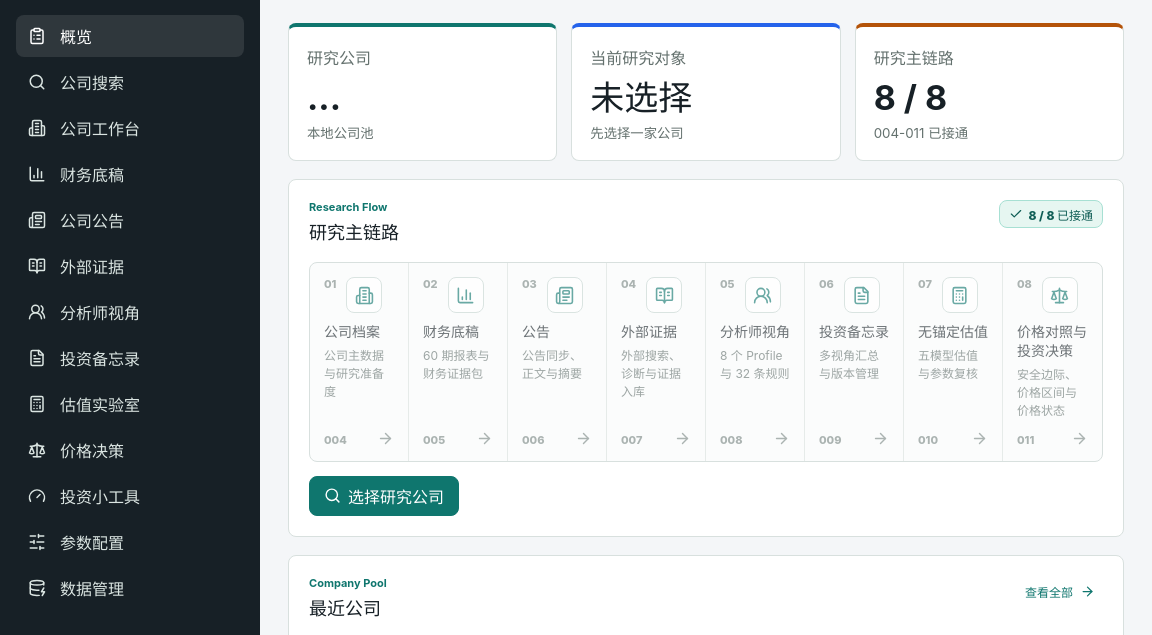
Test case: App › views and manually deletes price decision history
Step 1. Click the button "公司搜索" → point(130, 82), box [16,61,244,103]
(page scrolled)
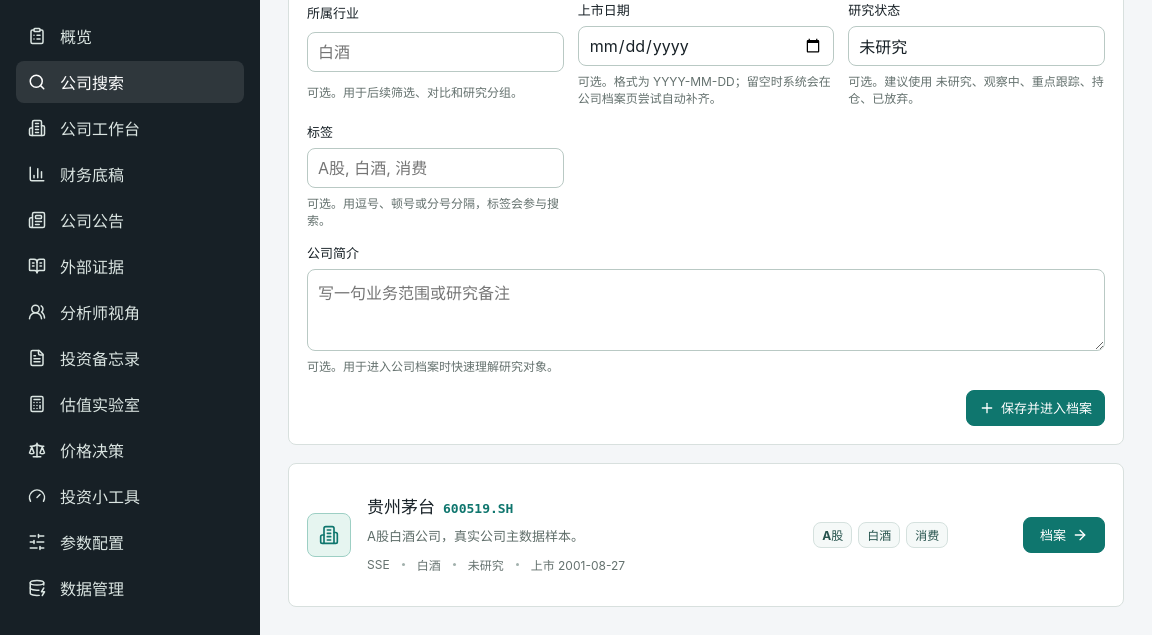
Result: the heading "贵州茅台" is shown at [367,496,435,519]
Step 2. Click the button "档案" → point(1064, 535), box [1023,517,1105,553]
(page scrolled)
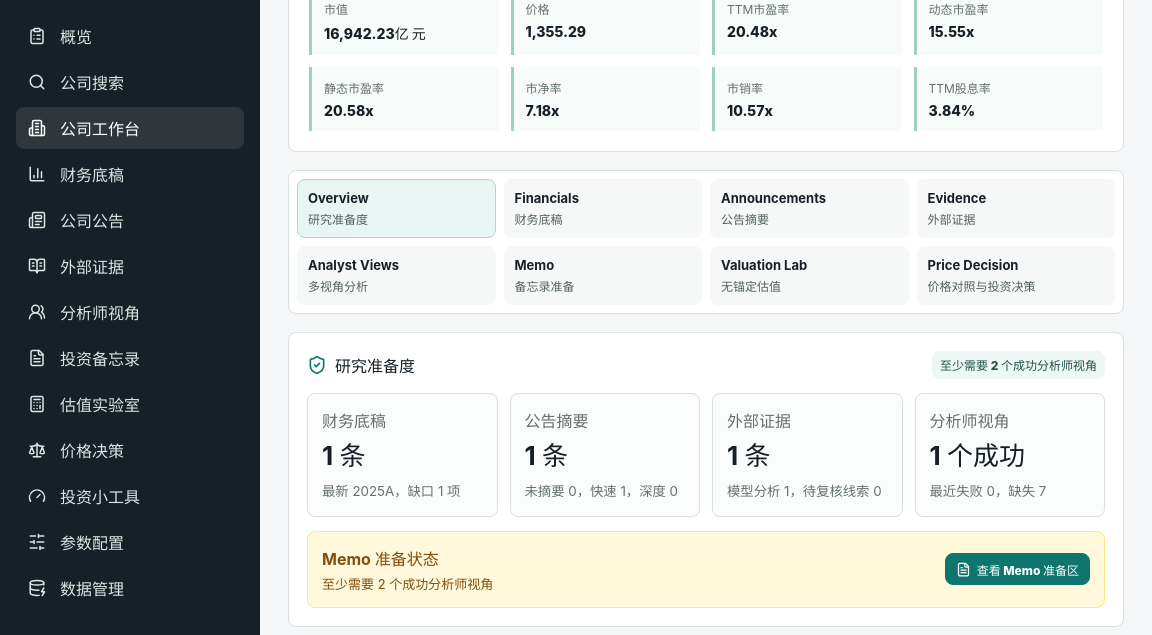
Step 3. Click the button "Price Decision 价格对照与投资决策" → point(1016, 275), box [916,246,1115,305]
(page scrolled)
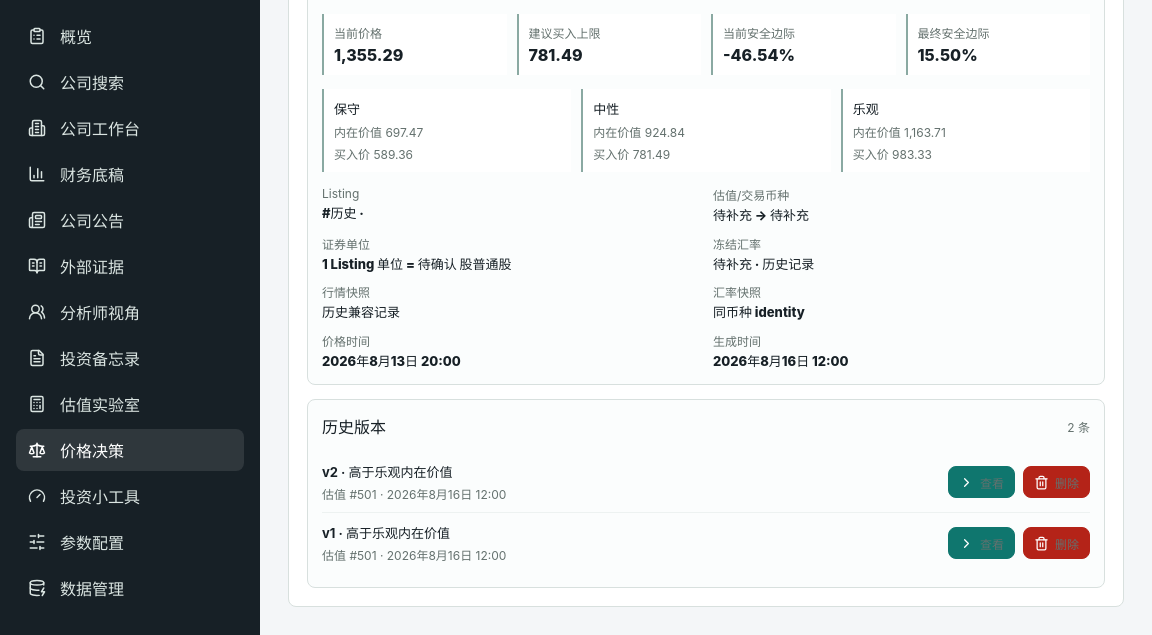
Step 4. Click the button with aria-label "查看价格决策 v1" → point(982, 543), box [948,527,1015,559]
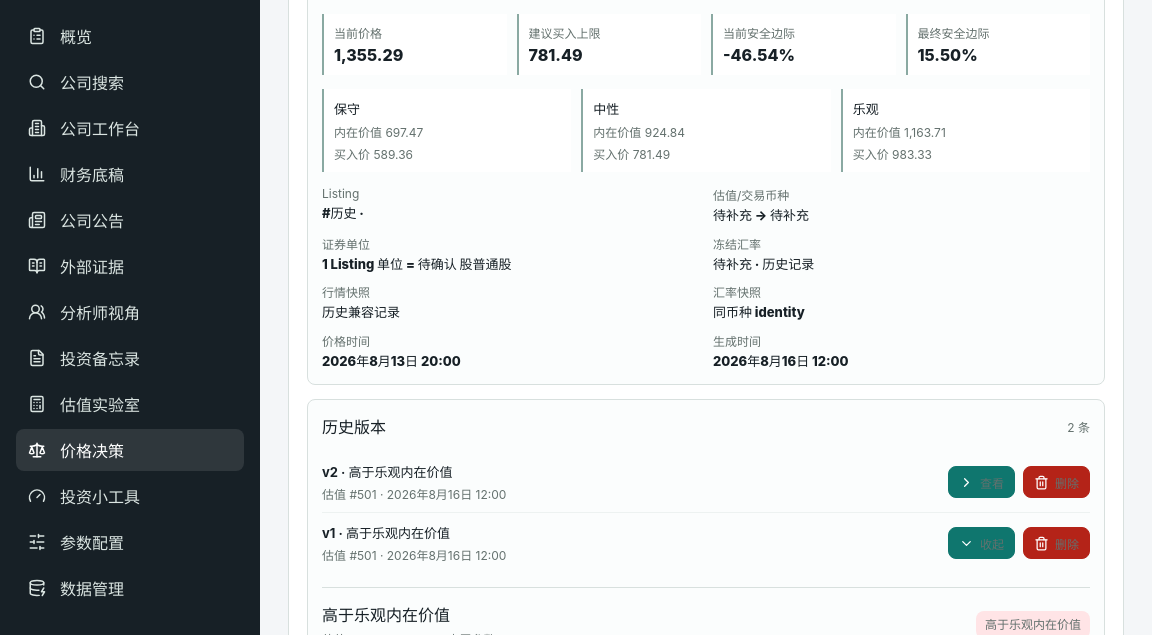
Step 5. Click the button with aria-label "删除价格决策 v2" → point(1056, 482), box [1023,466,1090,498]
(page scrolled)
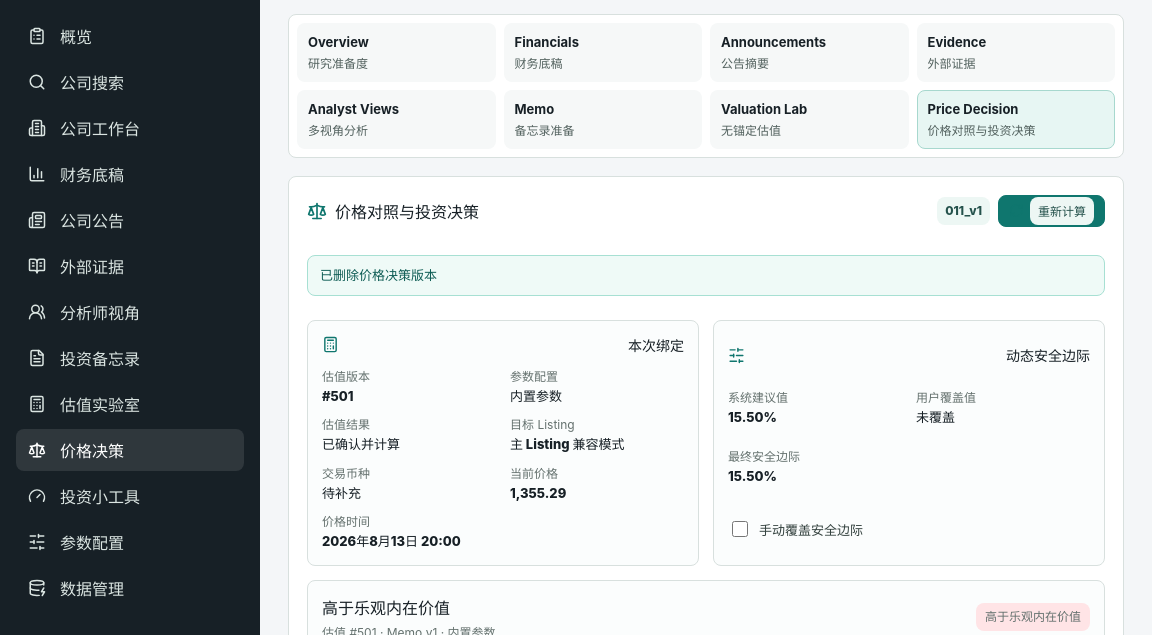
Result: the text "已删除价格决策版本" is shown at [307,255,1105,296]
